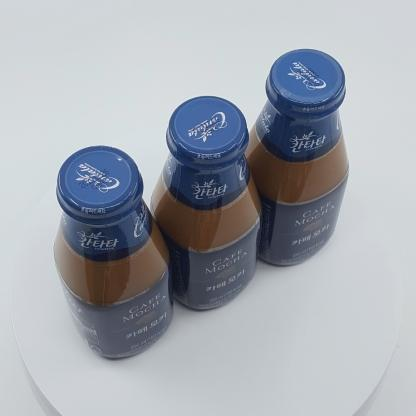------------250ML: (53, 145, 173, 358), (237, 49, 349, 265), (150, 96, 263, 309)
